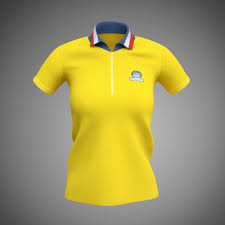S_polo shirt: (32, 21, 196, 209)
